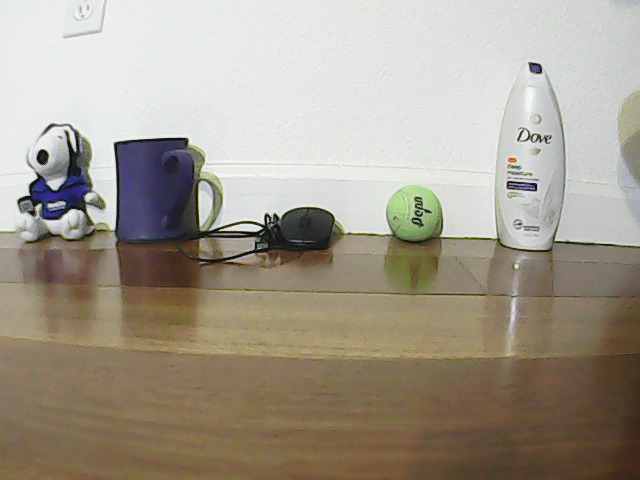ball: (394, 180, 451, 247)
mouse: (277, 195, 346, 257)
mug: (108, 122, 202, 245)
snoopy: (21, 107, 100, 238)
soap: (506, 49, 568, 265)
